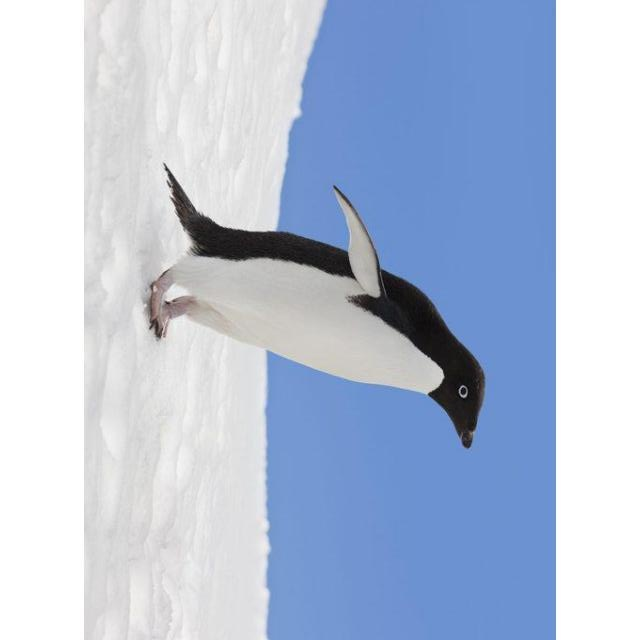penguin: (145, 162, 485, 447)
